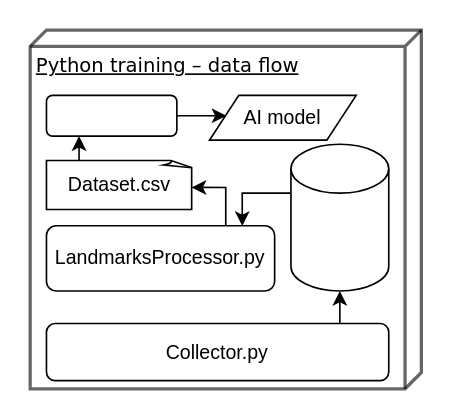
Some shapes in this 450 by 417 pixel diagram are drawn without their labels. Here are the shapes that lost their labels. From the top down, the box of each, then its label:
(45, 94, 177, 136): TrainerDF.py
(289, 143, 389, 291): Dataset jpg
